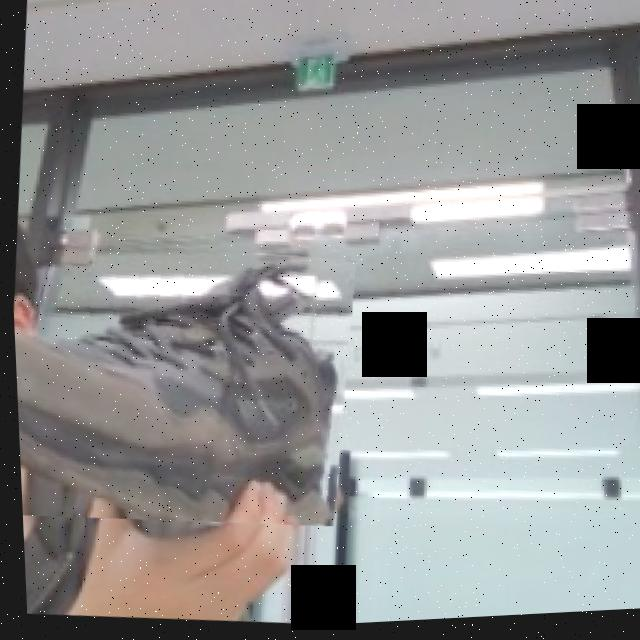shoe: (8, 219, 364, 543)
